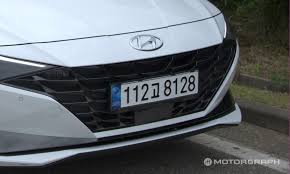car: (107, 71, 203, 111)
